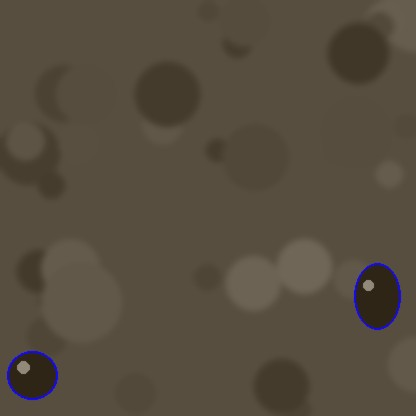gota: (354, 265, 400, 335), (7, 353, 57, 403)
